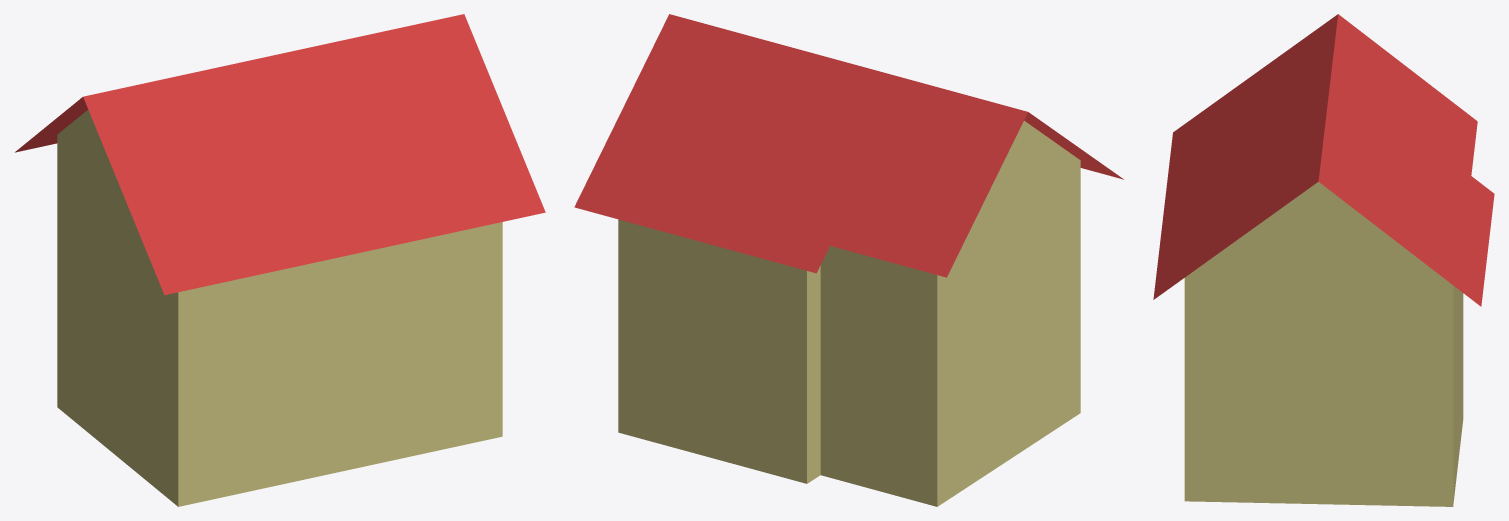
3 renders of one model, left to right at view 1: azimuth 30°, elevation 25°; view 2: azimuth 150°, elevation 25°; view 3: azimuth 270°, elevation 25°, orthographic. The views are drawn at different scales.
Bounding box in the file's own units: 13.92 × 11.5 × 12.46.
